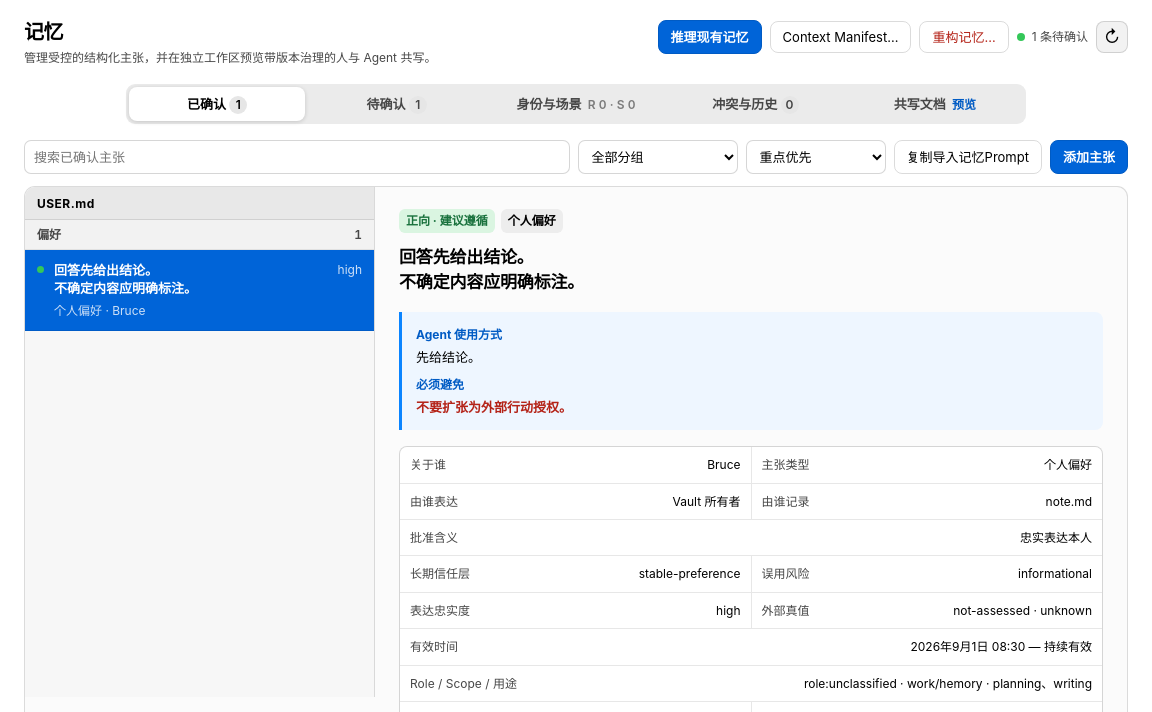
Test: Memory Protocol v2 app › integrates the unified Role and Scope manager into the main tabs
The image size is (1152, 712).
expect the tab "共写文档 预览" is shown: met, box [847, 87, 1023, 121]
Click the tab "待确认 1". click: (397, 104)
box: [308, 87, 485, 121]
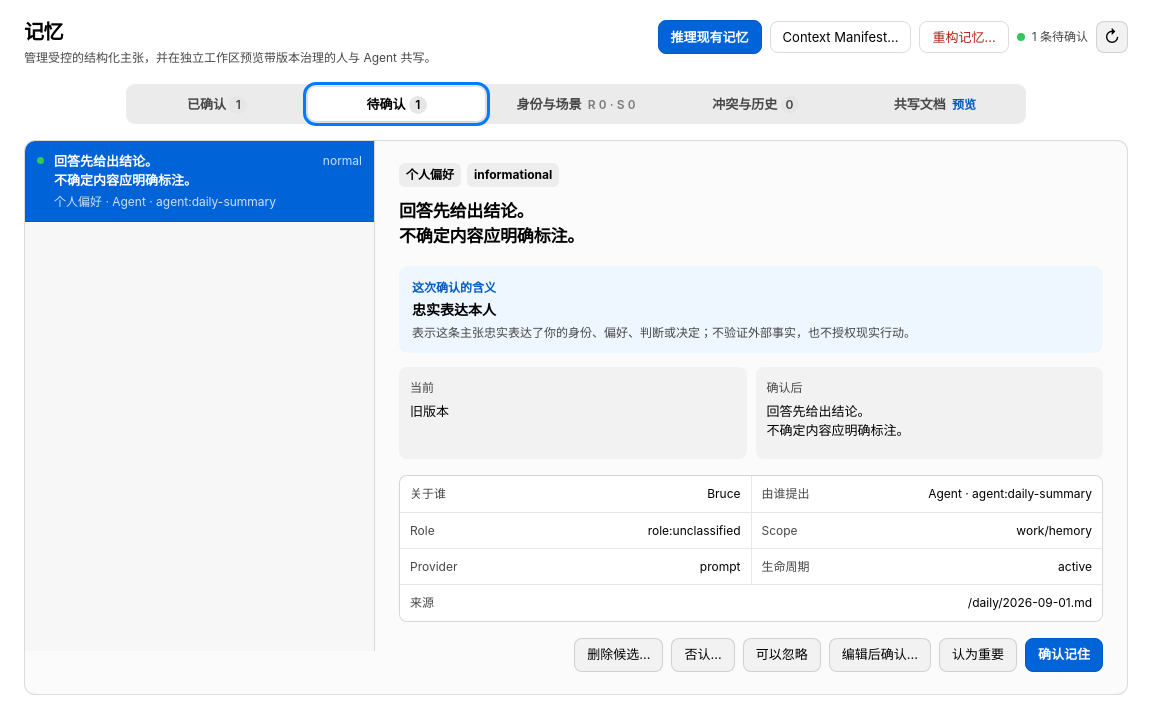
Press ArrowRight in the element named "Memory 区域", box [126, 84, 1026, 124]
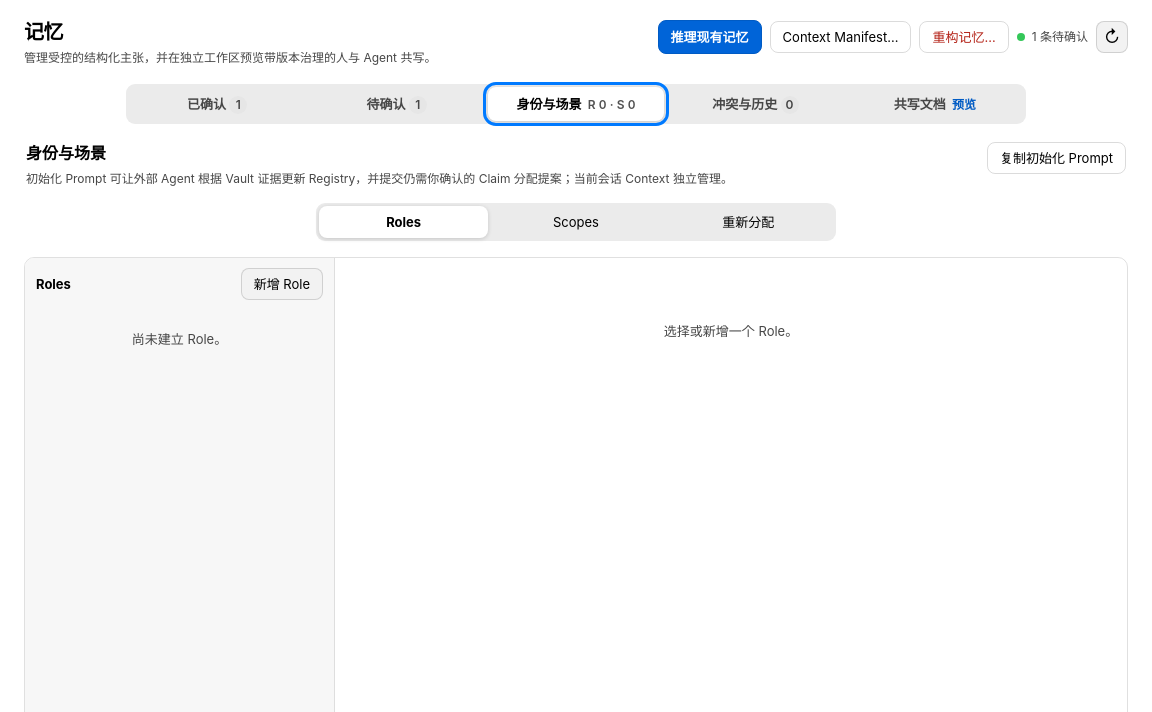
expect the heading with id "role-scope-title" reads "身份与场景": met, box [26, 143, 106, 163]
expect the text "Roles" is shown: met, box [319, 206, 488, 238]
expect the text "Scopes" is shown: met, box [491, 206, 661, 238]
